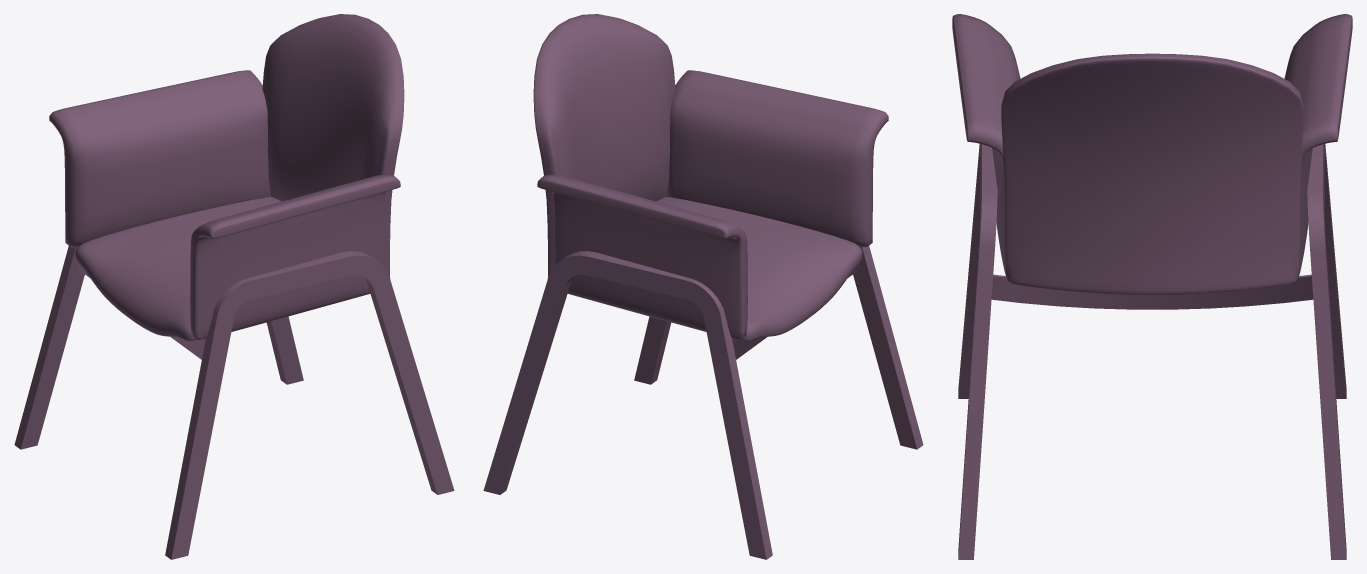
The model's file is ChairWine_low.fbx.
The picture shows the model from 3 angles, left to right: view 1: azimuth 30°, elevation 25°; view 2: azimuth 150°, elevation 25°; view 3: azimuth 270°, elevation 25°; orthographic projection. The views are drawn at different scales.
Parts seen in each view (by area): view 1: Line179611, Line179613; view 2: Line179611, Line179613; view 3: Line179611, Line179613.
Boxes of the visible parts, x1,y1,x2,y2 form: Line179611: [49, 14, 404, 340]; Line179613: [14, 246, 454, 559]; Line179611: [533, 14, 888, 340]; Line179613: [483, 246, 923, 559]; Line179611: [952, 14, 1352, 295]; Line179613: [958, 144, 1346, 559].
Size of the model in its own units: 24.75 by 33.61 by 24.19.
